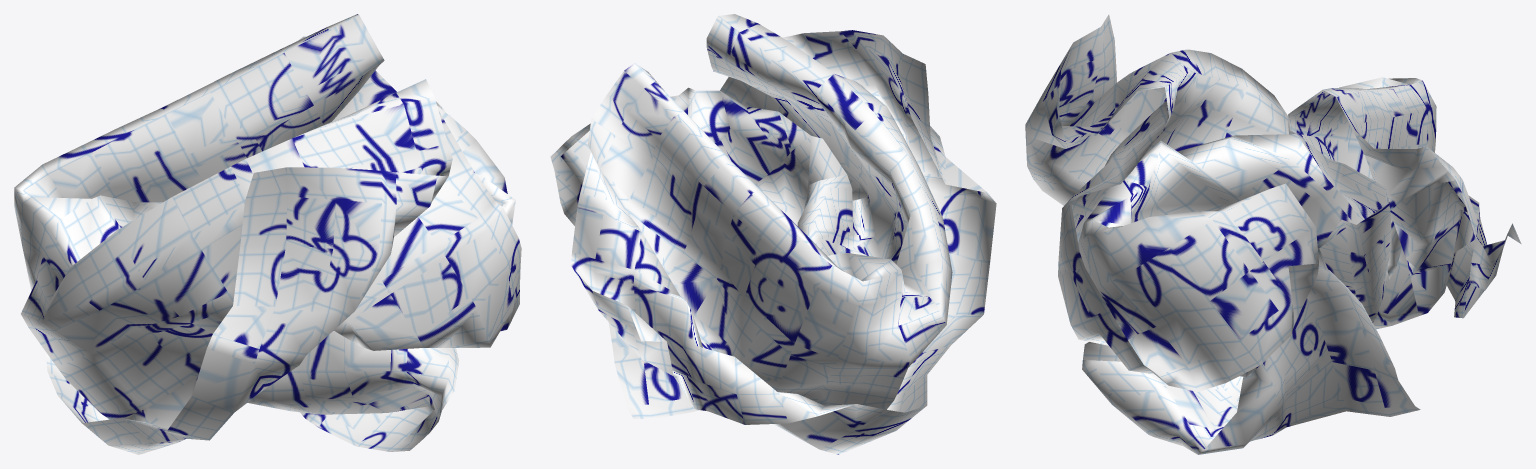
File: Crumple_003.fbx
3 views of the same model, side by side, from view 1: azimuth 30°, elevation 25°; view 2: azimuth 150°, elevation 25°; view 3: azimuth 270°, elevation 25° (orthographic). The views are drawn at different scales.
Parts seen in each view (by area): view 1: paper3; view 2: paper3; view 3: paper3.
Boxes of the visible parts, <box> form: paper3: <box>14,14,521,454</box>; paper3: <box>550,14,996,454</box>; paper3: <box>1025,14,1521,454</box>.
Size of the model in its own units: 91.63 by 79.01 by 92.78.
